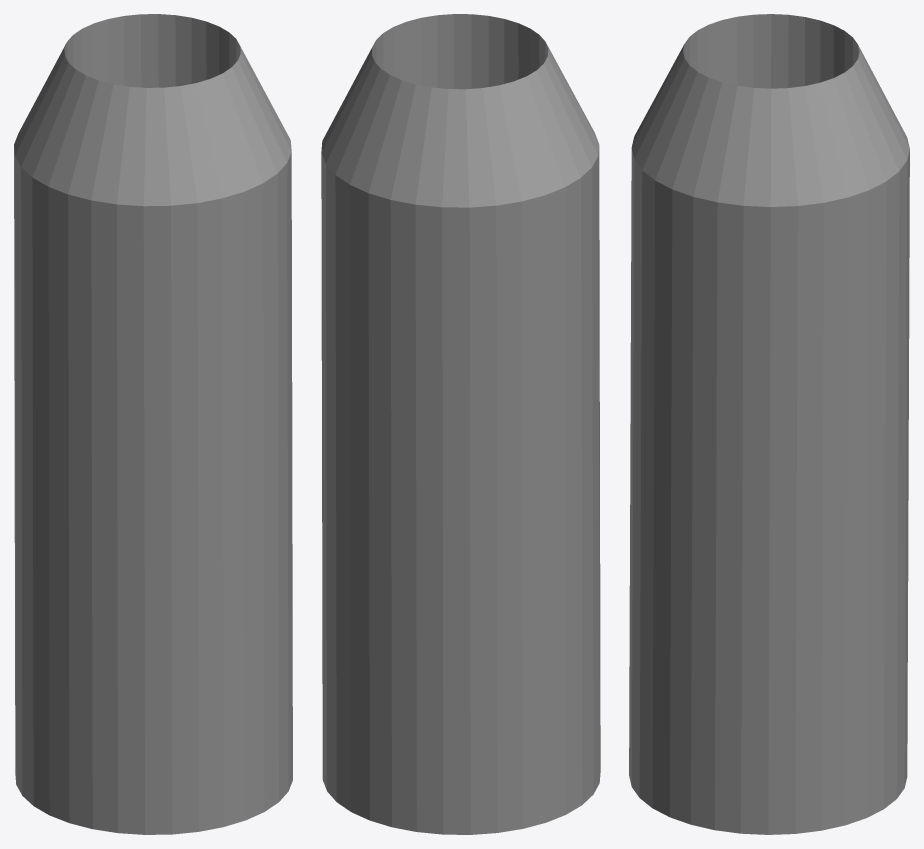
Rendered from Pistol_Nozzle_01.fbx.
The picture shows the model from 3 angles, left to right: view 1: azimuth 30°, elevation 25°; view 2: azimuth 150°, elevation 25°; view 3: azimuth 270°, elevation 25°; orthographic projection.
Visible parts, largest first — view 1: 円柱; view 2: 円柱; view 3: 円柱.
Part boxes in pixels (x1,y1,x2,y2): 円柱: (14,14,292,834); 円柱: (321,14,600,834); 円柱: (629,14,909,834).
Bounding box in the file's own units: 30.63 × 88.14 × 30.92.
